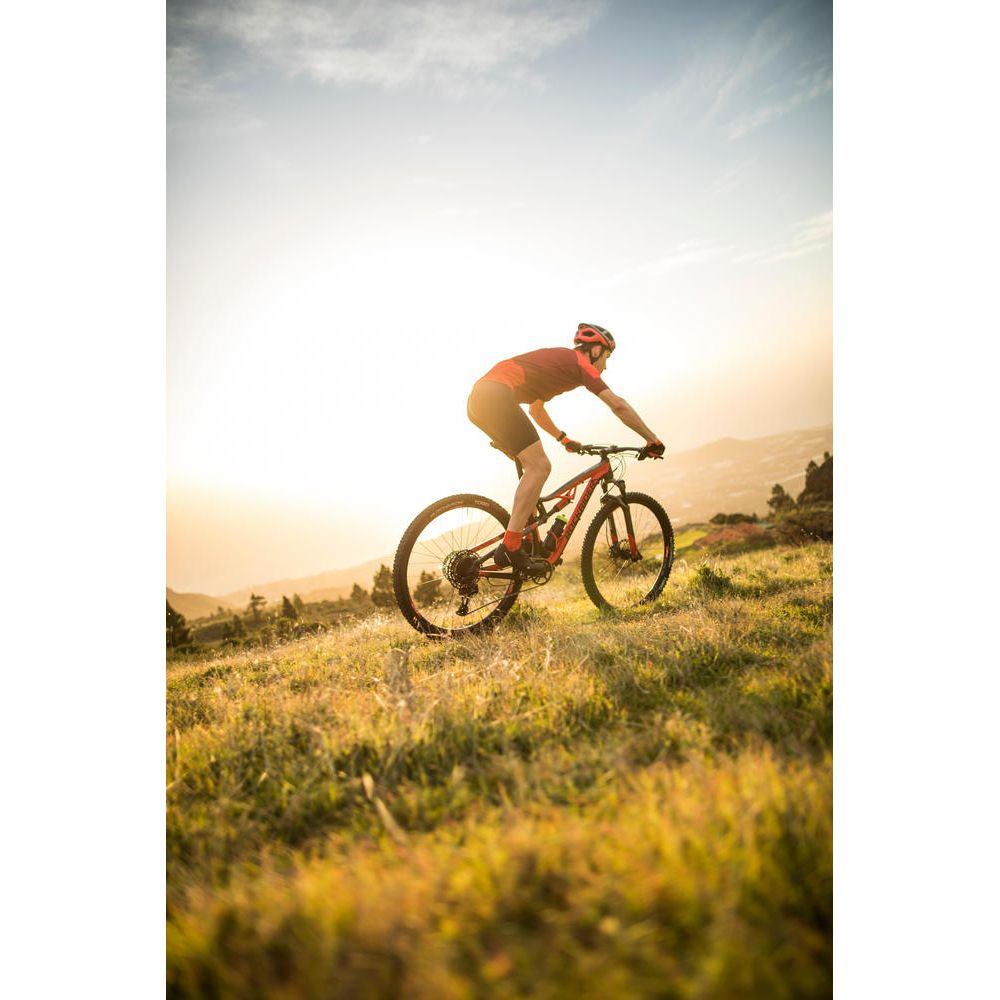RoadBike: (459, 482, 907, 778)
